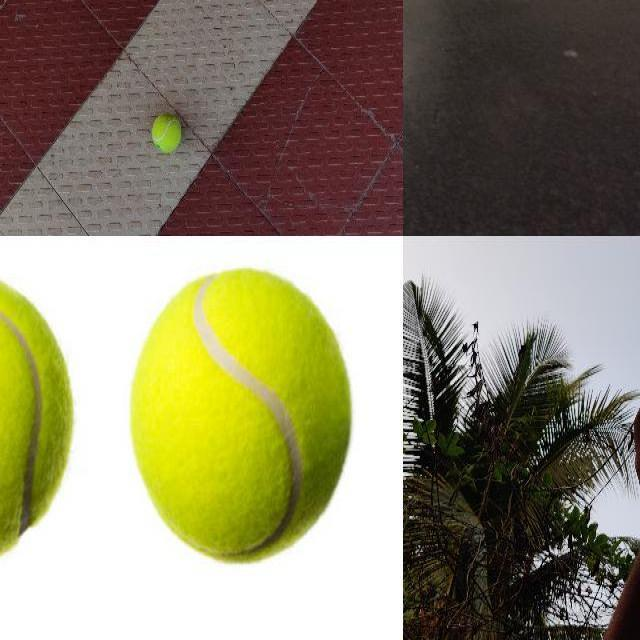tennis-ball: (128, 266, 352, 564), (0, 270, 72, 566), (152, 112, 180, 152)
